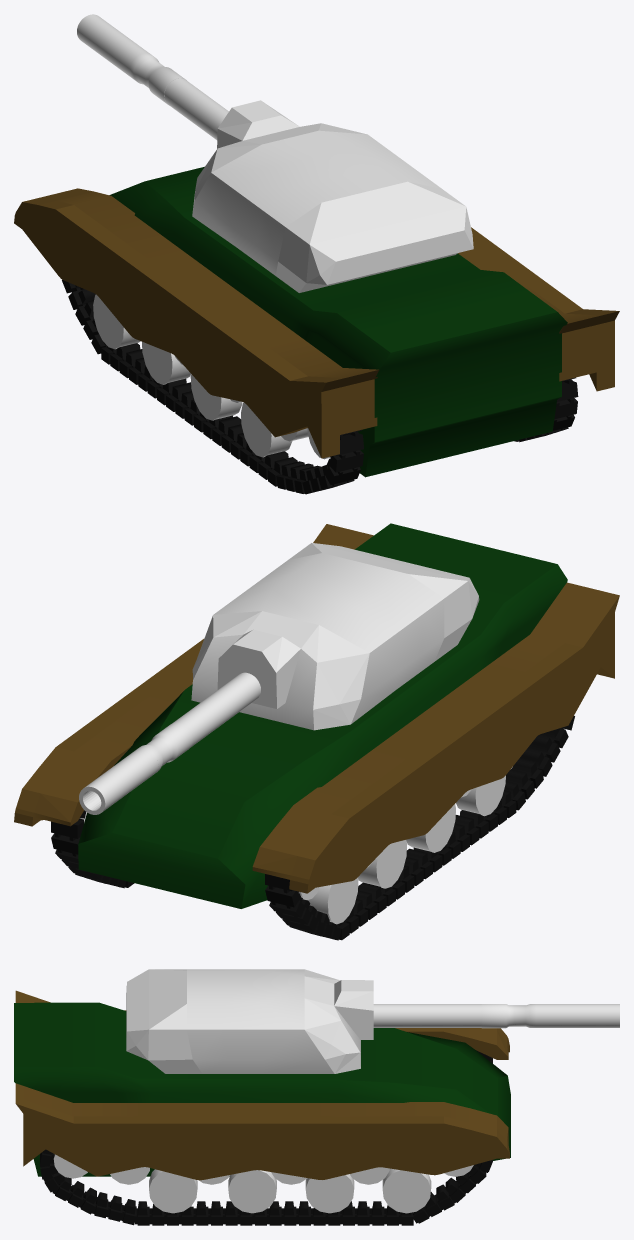
File: tank.FBX
The picture shows the model from 3 angles, top to bottom: view 1: azimuth 30°, elevation 25°; view 2: azimuth 150°, elevation 25°; view 3: azimuth 270°, elevation 25°; orthographic projection. The views are drawn at different scales.
Visible parts, largest first — view 1: Box001, TrackArmour, Box002, TrackArmour001, Cylinder010, Cylinder011, Cylinder026, Cylinder008, Cylinder014, Cylinder015, Cylinder024; view 2: Box001, TrackArmour, Box002, TrackArmour001, Cylinder011, Cylinder010, Cylinder015, Cylinder014, Cylinder008, Cylinder026, Cylinder024; view 3: TrackArmour001, Box001, Box002, Cylinder011, Cylinder010, TrackArmour, Cylinder036, Cylinder032, Cylinder030, Cylinder034, Cylinder008, Cylinder035 (+2 smaller).
Part boxes in pixels (x1=…): Box001: x1=109, y1=166, x2=567, y2=477; TrackArmour: x1=14, y1=188, x2=379, y2=458; Box002: x1=192, y1=100, x2=473, y2=292; TrackArmour001: x1=458, y1=227, x2=619, y2=391; Cylinder010: x1=77, y1=14, x2=149, y2=79; Cylinder011: x1=164, y1=78, x2=228, y2=140; Cylinder026: x1=241, y1=402, x2=292, y2=457; Cylinder008: x1=129, y1=53, x2=186, y2=104; Cylinder014: x1=142, y1=341, x2=190, y2=384; Cylinder015: x1=93, y1=294, x2=140, y2=349; Cylinder024: x1=190, y1=374, x2=242, y2=420; Box001: x1=78, y1=523, x2=567, y2=908; TrackArmour: x1=252, y1=582, x2=619, y2=893; Box002: x1=191, y1=543, x2=479, y2=730; TrackArmour001: x1=14, y1=524, x2=373, y2=826; Cylinder011: x1=172, y1=672, x2=260, y2=747; Cylinder010: x1=79, y1=748, x2=158, y2=814; Cylinder015: x1=308, y1=877, x2=358, y2=924; Cylinder014: x1=358, y1=840, x2=406, y2=888; Cylinder008: x1=137, y1=722, x2=192, y2=773; Cylinder026: x1=456, y1=775, x2=505, y2=816; Cylinder024: x1=406, y1=804, x2=455, y2=852; TrackArmour001: x1=15, y1=1083, x2=509, y2=1180; Box001: x1=14, y1=1002, x2=510, y2=1176; Box002: x1=126, y1=969, x2=373, y2=1073; Cylinder011: x1=373, y1=1004, x2=481, y2=1027; Cylinder010: x1=536, y1=1004, x2=619, y2=1027; TrackArmour: x1=15, y1=990, x2=509, y2=1059; Cylinder036: x1=382, y1=1168, x2=431, y2=1213; Cylinder032: x1=228, y1=1170, x2=276, y2=1213; Cylinder030: x1=149, y1=1169, x2=197, y2=1213; Cylinder034: x1=305, y1=1174, x2=354, y2=1213; Cylinder008: x1=481, y1=1004, x2=536, y2=1028; Cylinder035: x1=350, y1=1167, x2=389, y2=1184.
Bounding box in the file's own units: 54.83 × 43.67 × 124.
